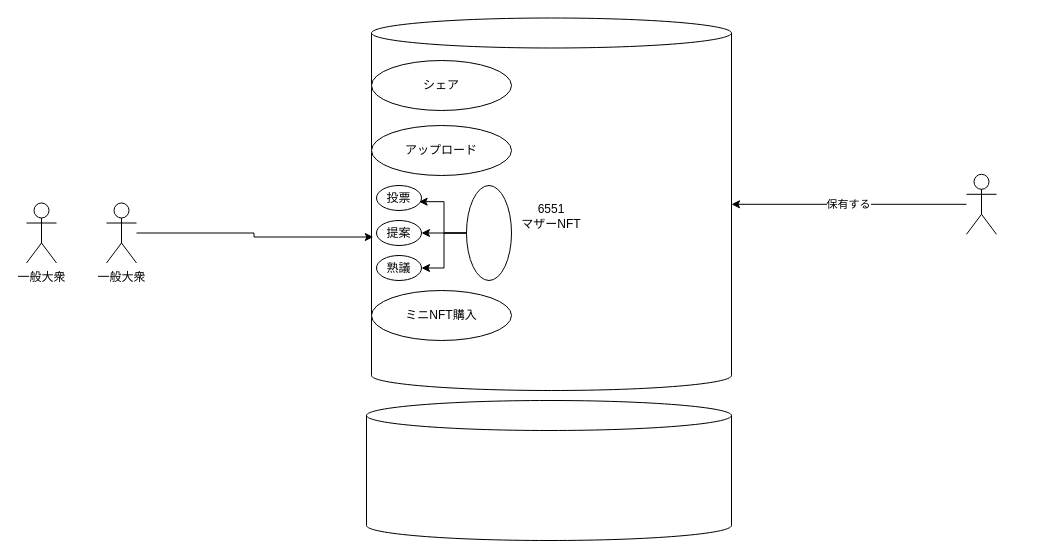
The diagram is 1040 pixels wide and 558 high, and some of its shapes have lost their labels. The shapes that lost their labels are listed below. From the top down, each one's centre as x and y in pixels, then its label:
(981,203): 文化財オーナー
(489,232): DAO活
(549,470): LINE in-app wallet
